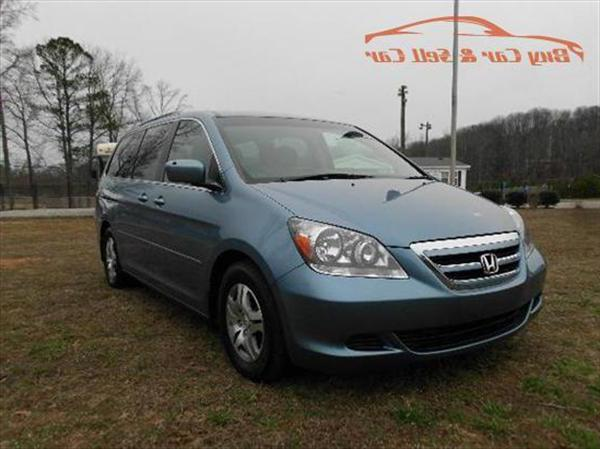Car: (68, 96, 551, 390)
